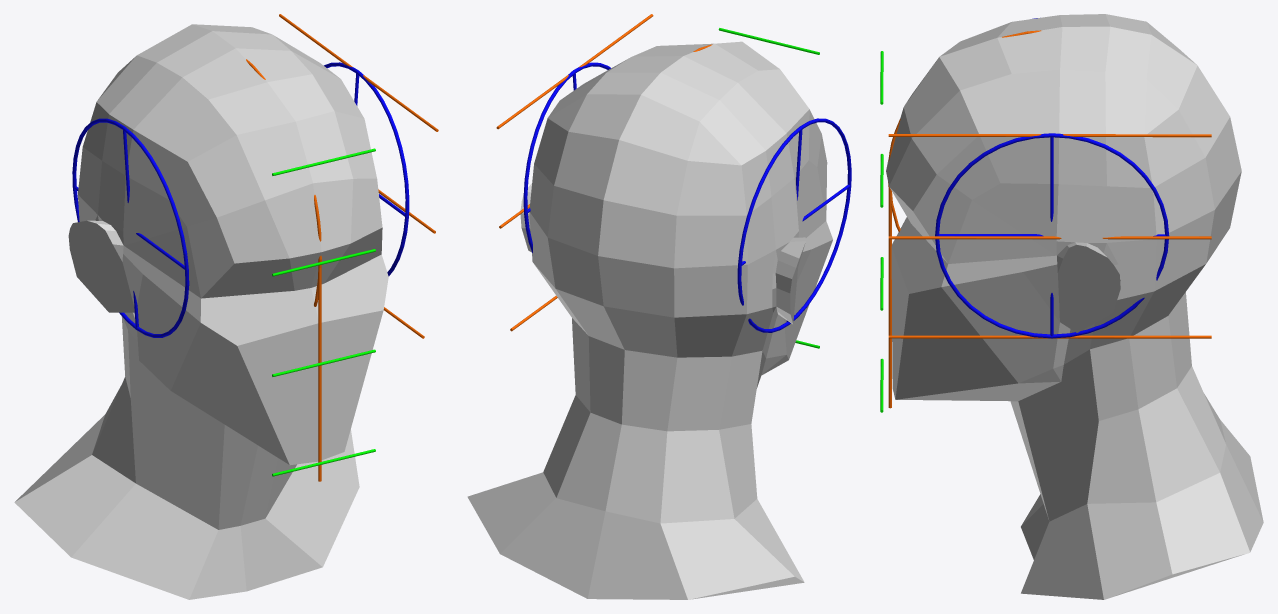
The picture shows the model from 3 angles, left to right: view 1: azimuth 30°, elevation 25°; view 2: azimuth 150°, elevation 25°; view 3: azimuth 270°, elevation 25°; orthographic projection. The views are drawn at different scales.
Visible parts, largest first — view 1: Model, Right_Side_Plane_Guide, Left_Side_Plane_Guide, Front_Face_Guide, Side_Plane_Horizontal_Top_Guide; view 2: Model, Right_Side_Plane_Guide, Left_Side_Plane_Guide, Side_Plane_Horizontal_Top_Guide; view 3: Model, Left_Side_Plane_Guide, Side_Plane_Horizontal_Bottom_Guide, Side_Plane_Horizontal_Middle_Guide, Front_Face_Guide, Side_Plane_Horizontal_Top_Guide.
Part boxes in pixels (<box>): Model: <box>14,24,388,599</box>; Right_Side_Plane_Guide: <box>72,118,189,337</box>; Left_Side_Plane_Guide: <box>324,62,409,276</box>; Front_Face_Guide: <box>314,195,321,481</box>; Side_Plane_Horizontal_Top_Guide: <box>279,14,438,131</box>; Model: <box>467,41,832,599</box>; Right_Side_Plane_Guide: <box>737,118,851,332</box>; Left_Side_Plane_Guide: <box>523,62,610,252</box>; Side_Plane_Horizontal_Top_Guide: <box>496,14,653,129</box>; Model: <box>886,14,1263,599</box>; Left_Side_Plane_Guide: <box>935,133,1169,338</box>; Side_Plane_Horizontal_Bottom_Guide: <box>888,335,1211,338</box>; Side_Plane_Horizontal_Middle_Guide: <box>888,236,1211,239</box>; Front_Face_Guide: <box>888,118,900,408</box>; Side_Plane_Horizontal_Top_Guide: <box>888,134,1211,137</box>.
Bounding box in the file's own units: 6.28 × 9.57 × 6.07.
